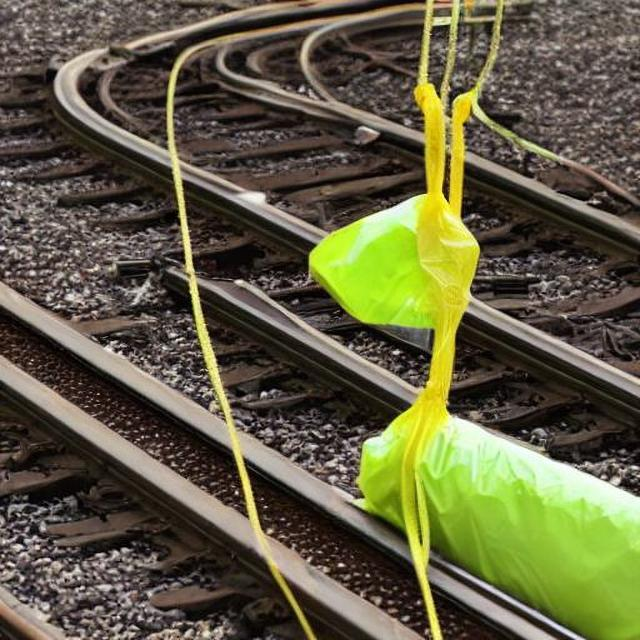floating object: (166, 23, 340, 638), (383, 1, 509, 639)
plastic bag: (353, 392, 640, 640), (295, 166, 496, 356)
